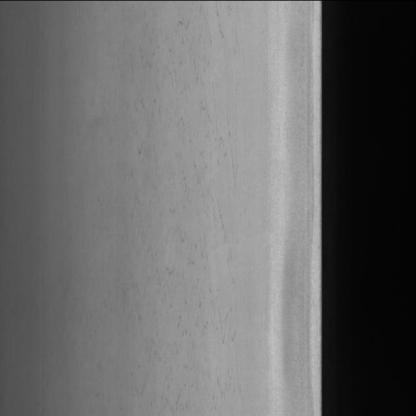silk_spot: (157, 20, 239, 354)
